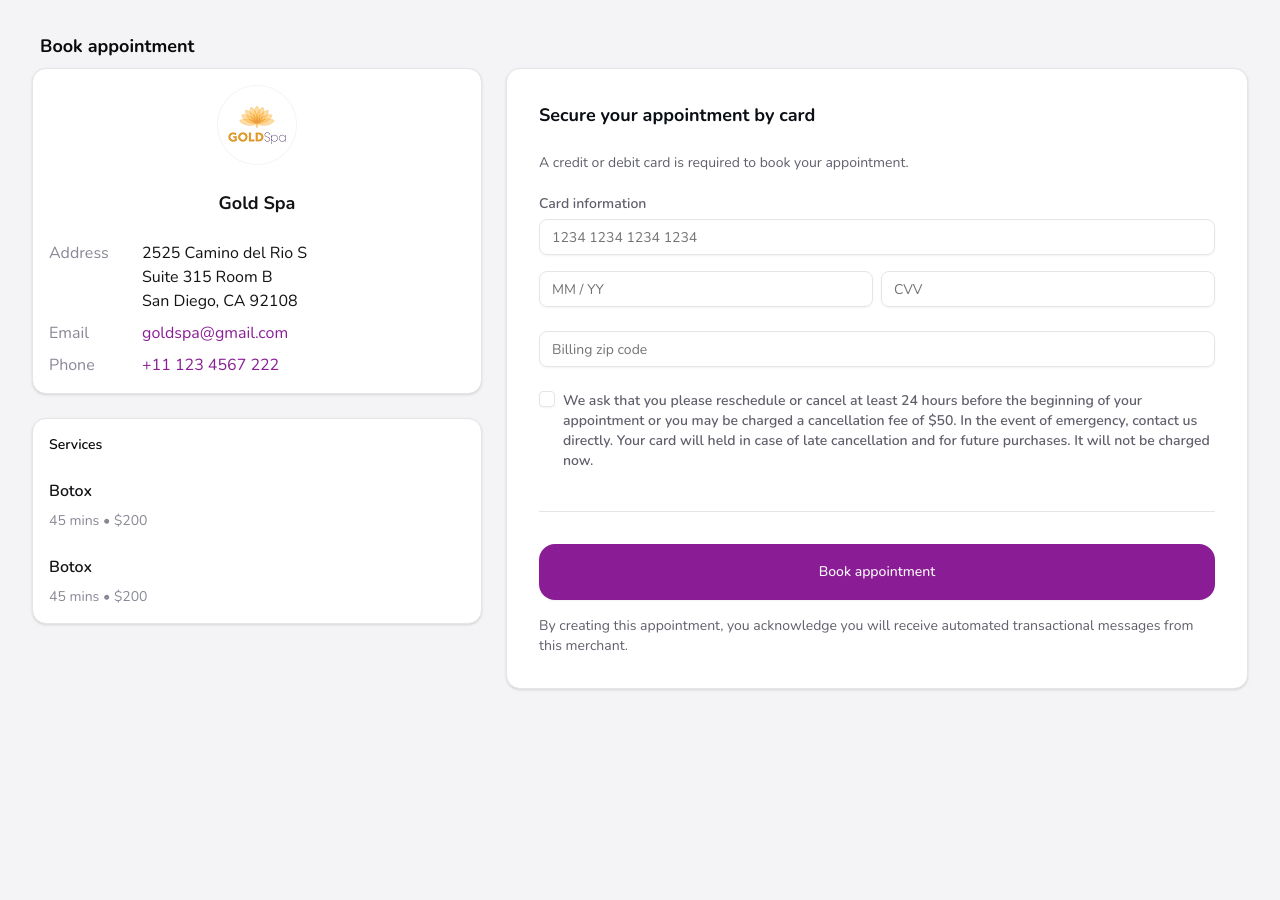
it: PaymentInformation › shows validation errors for empty required fields
The width and height of the screenshot is (1280, 900).
Click the button "Book appointment" at (877, 572), box x1=539 y1=544 x2=1215 y2=600
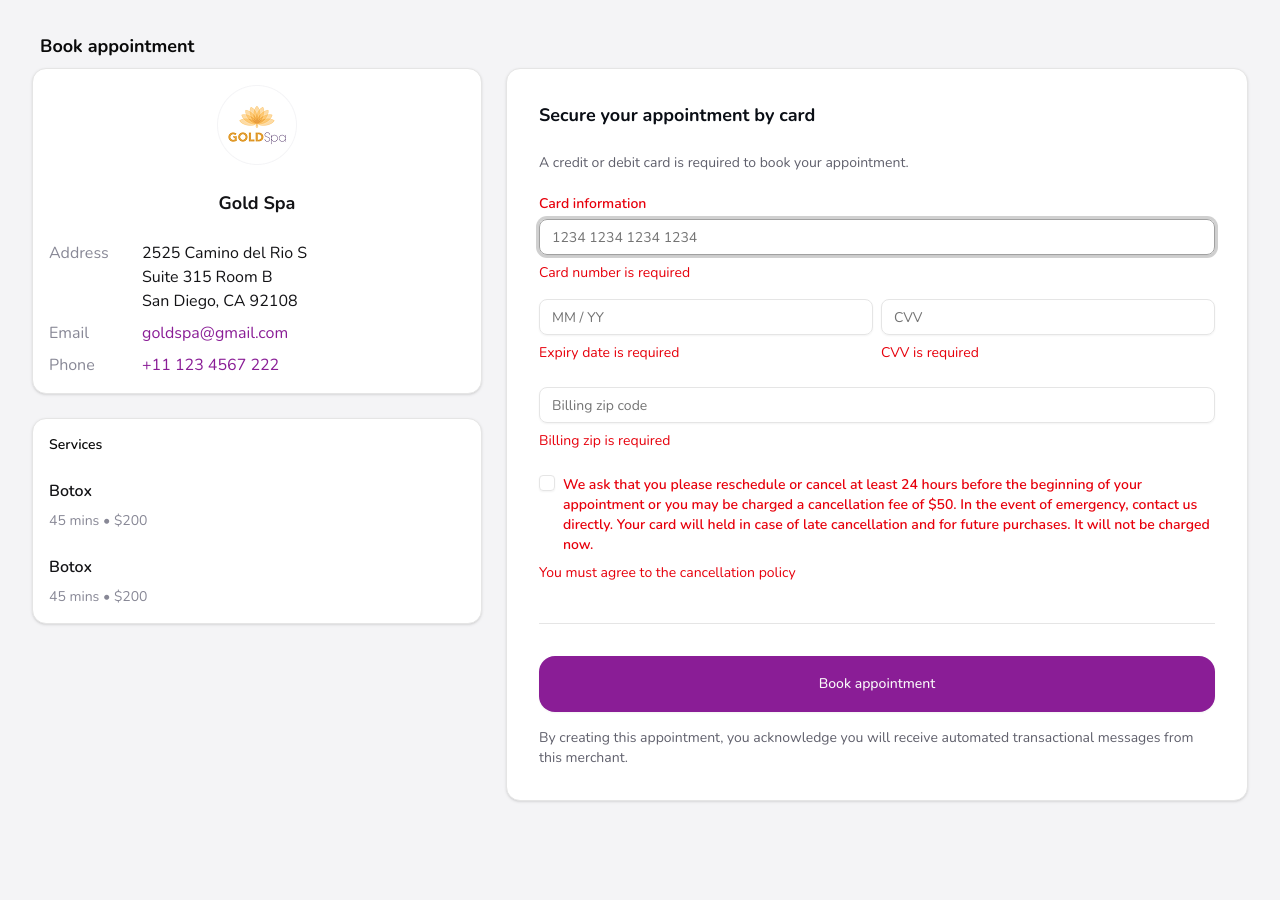
expect the text "Card number is required" is shown: met, box x1=539 y1=263 x2=690 y2=282
expect the text "Expiry date is required" is shown: met, box x1=539 y1=343 x2=679 y2=362
expect the text "CVV is required" is shown: met, box x1=881 y1=343 x2=979 y2=362
